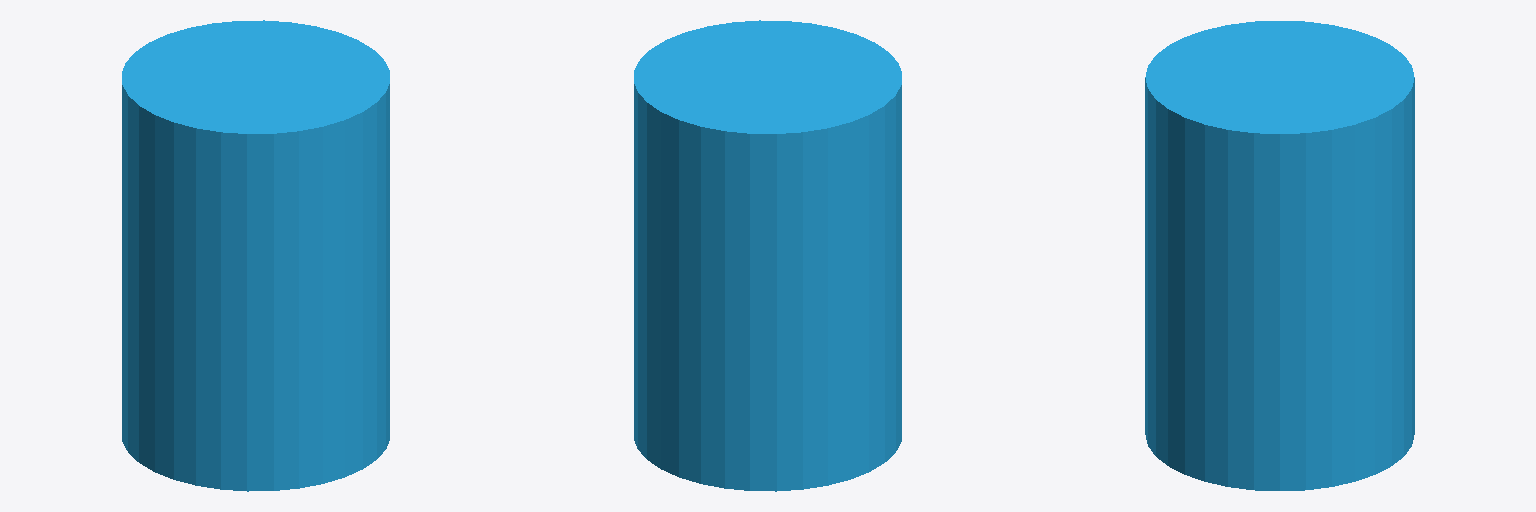
The robot description file, URDF, robot "tapered_coffee_cup":
<?xml version="1.0" encoding="utf-8"?>
<!-- Universal URDF Enhanced by PhySpace-Forge (Calibration ID: PSF-16608541E598B2EA) -->
<robot name="tapered_coffee_cup">
  <link name="base_link">
    <inertial>
      <origin xyz="0 0 0.0550" rpy="0 0 0"/>
      <mass value="0.1718"/>
      <inertia ixx="0.000254" ixy="0.0" ixz="0.0"
               iyy="0.000254" iyz="0.0"
               izz="0.000162"/>
    </inertial>
    <visual>
      <origin xyz="0 0 0.0550" rpy="0 0 0"/>
      <geometry>
        <cylinder radius="0.0376" length="0.1100"/>
      </geometry>
      <material name="physpace_cyan">
        <color rgba="0.22 0.74 0.97 0.9"/>
      </material>
    </visual>
    <collision>
      <origin xyz="0 0 0.0550" rpy="0 0 0"/>
      <geometry>
        <cylinder radius="0.0376" length="0.1100"/>
      </geometry>
    </collision>
    <contact>
      <lateral_friction value="0.42"/>
      <spinning_friction value="0.015"/>
      <stiffness value="2223841.7"/>
      <damping value="12.0"/>
    </contact>
  </link>

  <!-- PhySpace-Forge Tactile & Continuum Sidecar Extension (Standard XML Extension) -->
  <physpace_tactile version="0.1.0" signature="PSF-16608541E598B2EA">
    <constitutive youngs_modulus_kpa="44476.83"
                  poisson_ratio="0.3"
                  yield_stress_kpa="6.0"
                  mu_static="0.42"
                  mu_dynamic="0.33"/>
    <golden_safety_corridor p_slip_min_kpa="2.33"
                            p_crush_max_kpa="4.24"
                            optimal_target_kpa="3.29"/>
  </physpace_tactile>
</robot>

--- What the picture shows (computed from the rendered views, not written in the file) ---
The picture shows the robot from 3 angles, left to right: view 1: azimuth 30°, elevation 25°; view 2: azimuth 150°, elevation 25°; view 3: azimuth 270°, elevation 25°; orthographic projection.
Robot: tapered_coffee_cup — 1 links, 0 joints (none); root link base_link; default pose: all joints at 0.
Visible links, largest first — view 1: base_link; view 2: base_link; view 3: base_link.
Link boxes in pixels (x1=…): base_link: x1=122, y1=20, x2=389, y2=491; base_link: x1=634, y1=20, x2=901, y2=491; base_link: x1=1145, y1=21, x2=1414, y2=490.
Size in the robot's own frame: 0.0752 by 0.0752 by 0.11 metres.
Geometry: primitives only (box / cylinder / sphere), no mesh files.
